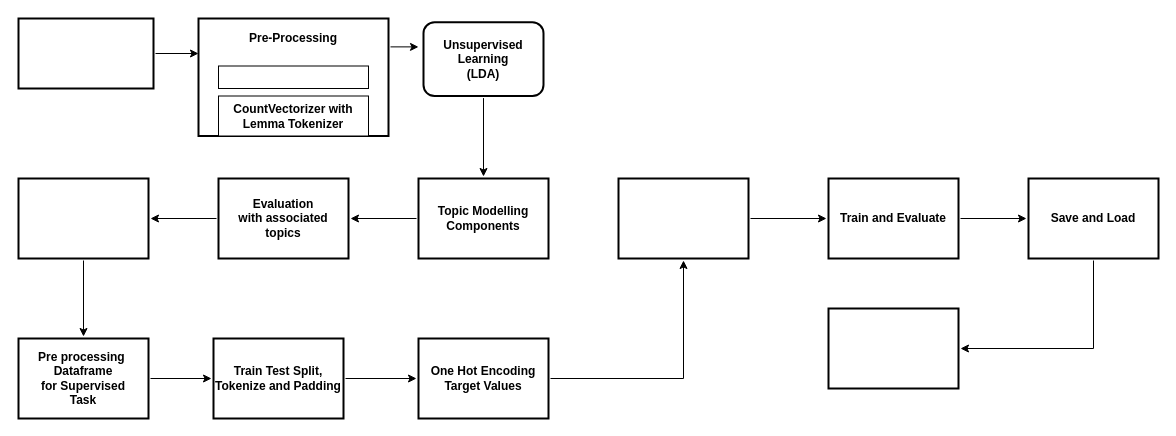
Some shapes in this 1176 by 436 pixel diagram are drawn without their labels. Here are the shapes that lost their labels. From the top down, the centre of each, then its label:
At point 85,53: "Text From document".
At point 293,76: "Lower case".
At point 83,218: "Exporting Processed Dataframe".
At point 683,218: "Supervised Deep Neural Network for multi class classification model".
At point 893,348: "Inferences on Sample Text".
